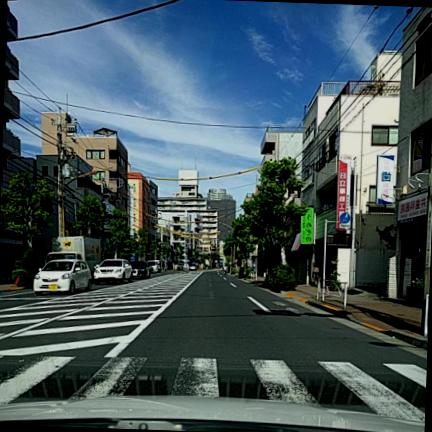Road: (0, 271, 426, 420)
